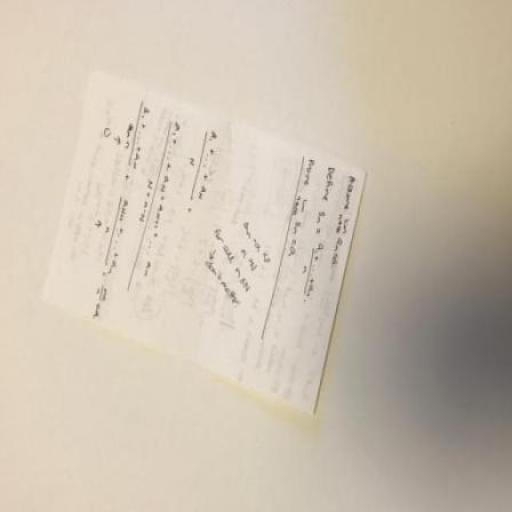paper: (28, 32, 414, 462)
